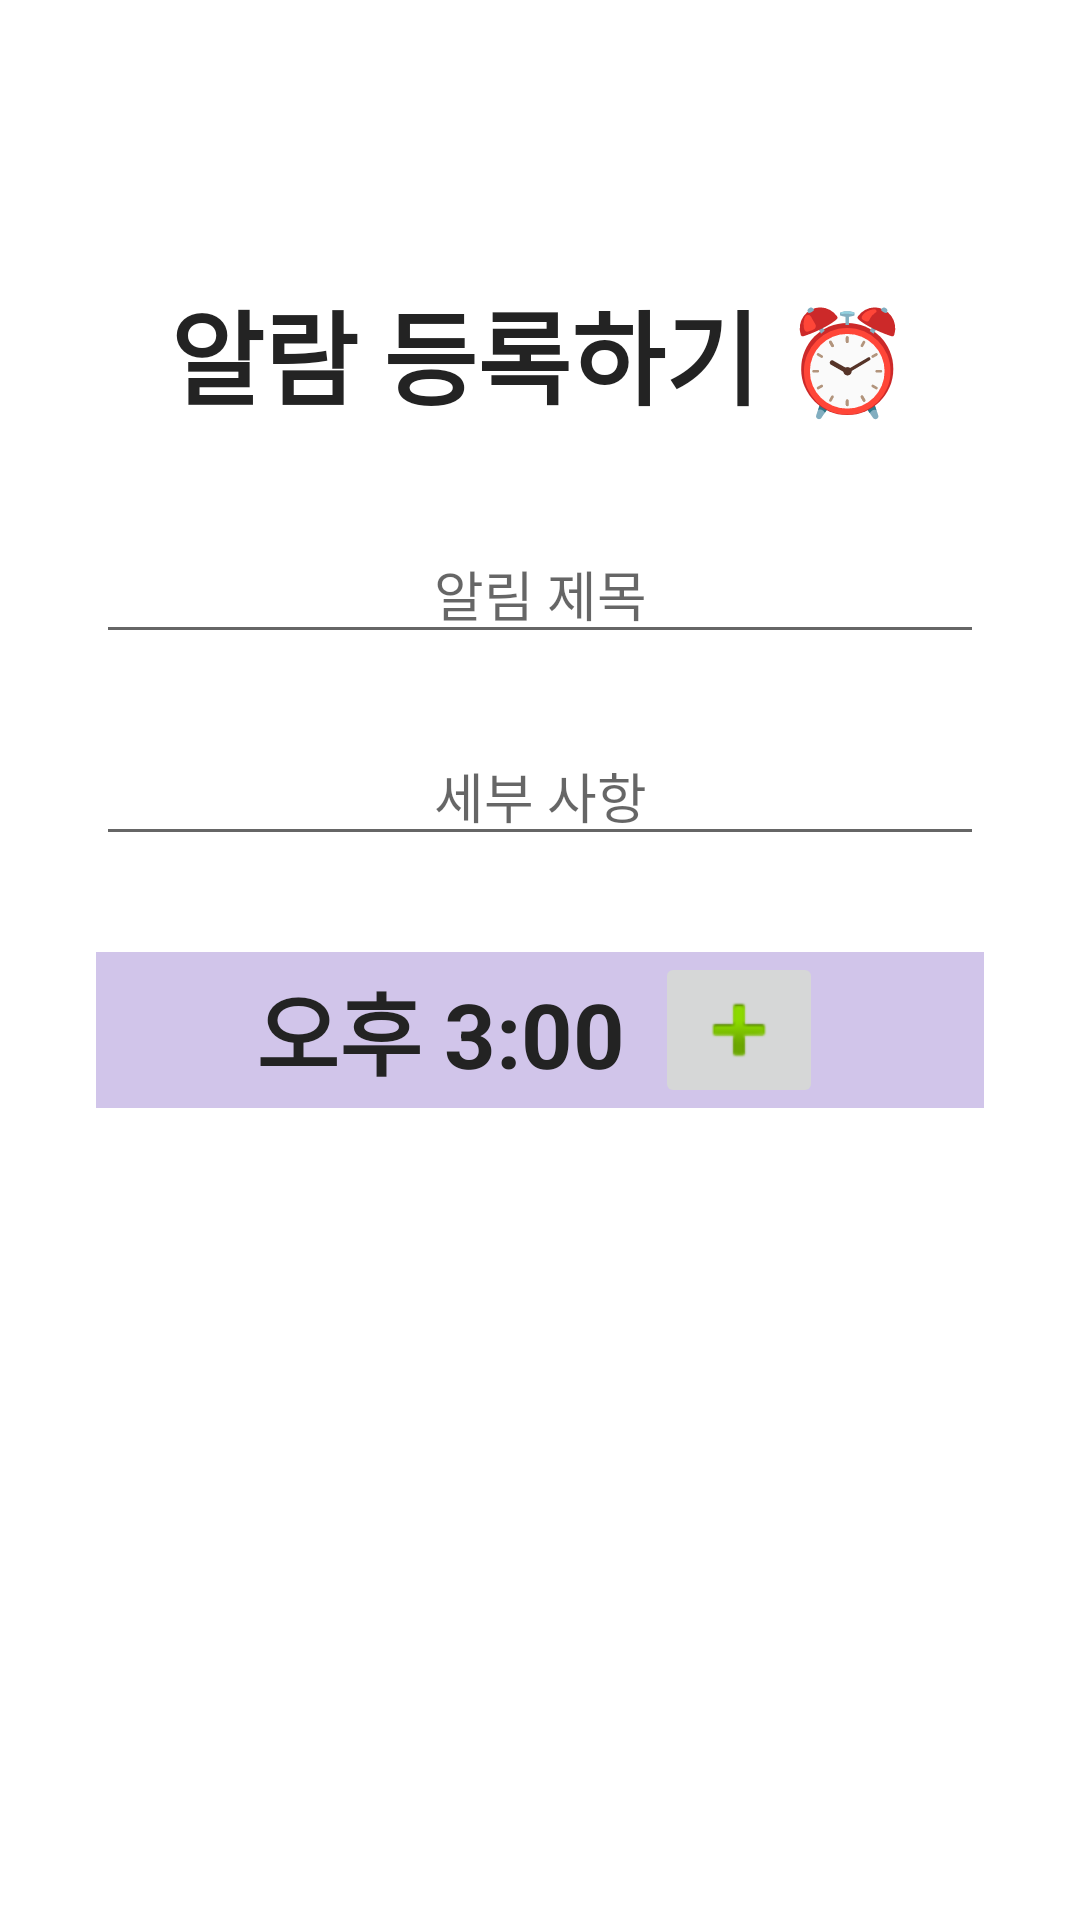

Icon bounding boxes for this 1080px×1920px phone screenshot, format bbox=(x1, y1, x2, y2):
add: bbox=(667, 970, 811, 1090)
